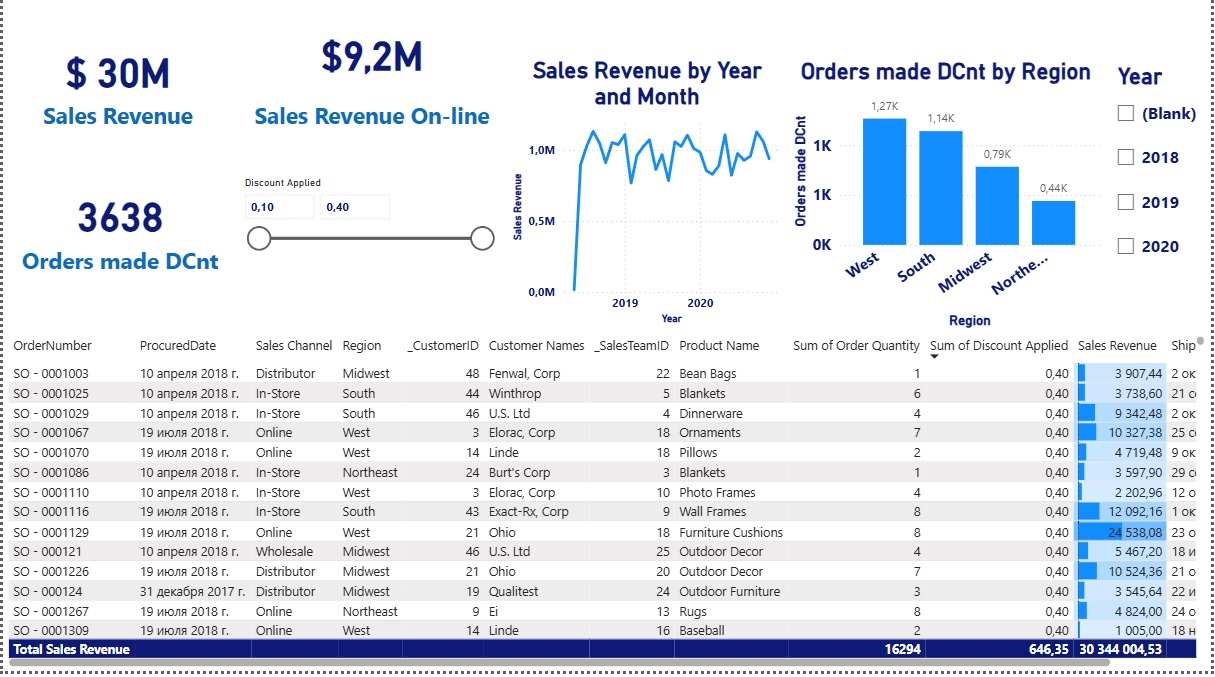

What the dashboard file says about the page in this screenshot:
{"tool":"powerbi","page":{"name":"Sales with 10%+ Discount (Online Sales Highlighted)","canvas":[1280,720],"ordinal":1},"visuals":[{"type":"slicer","fields":{"Values":["Sales Orders Sheet.Discount Applied"]},"box":[248.1,258.3,287,94.3],"z":0},{"type":"card","fields":{"Values":["Measures Table.Sales Revenue"]},"box":[4.1,69.7,244,188.6],"z":1000},{"type":"card","fields":{"Values":["Measures Table.Order Count"]},"box":[0,241.9,248.1,118.9],"z":2000},{"type":"lineChart","fields":{"Y":["Measures Table.Sales Revenue"],"Category":["DimDate.Date.Variation.Date Hierarchy.Year","DimDate.Date.Variation.Date Hierarchy.Month"]},"box":[535.1,67.7,297.3,289.1],"z":3000},{"type":"clusteredColumnChart","fields":{"Category":["Regions Sheet.Region"],"Y":["Measures Table.Orders made DCnt"]},"box":[832.4,69.7,336.2,291.1],"z":4000},{"type":"tableEx","fields":{"Values":["Sales Orders Sheet.OrderNumber","Sales Orders Sheet.ProcuredDate","Sales Orders Sheet.Sales Channel","Regions Sheet.Region","Sales Orders Sheet._CustomerID","Customers Sheet.Customer Names","Sales Orders Sheet._SalesTeamID","Products Sheet.Product Name","Sum(Sales Orders Sheet.Order Quantity)","Sum(Sales Orders Sheet.Discount Applied)","Measures Table.Sales Revenue","Sales Orders Sheet.ShipDate"]},"box":[0,358.8,1279.3,360.8],"z":5000},{"type":"slicer","fields":{"Values":["DimDate.Year"]},"box":[1168.6,69.7,110.7,239.9],"z":6000},{"type":"card","fields":{"Values":["Measures Table.Sales Revenue"]},"box":[248.1,69.7,287,121],"z":7000},{"type":"textbox","box":[248.1,190.7,287,51.3],"z":8000}]}

Visuals, with their boxes in screenshot pixels (x1, y1, x2, y2), scaled from the page's 1280x720 canvas onto the 1215x677 screenshot:
slicer - Sales Orders Sheet.Discount Applied: <region>236, 243, 508, 332</region>
card - Measures Table.Sales Revenue: <region>4, 66, 236, 243</region>
card - Measures Table.Order Count: <region>0, 227, 236, 339</region>
lineChart - Measures Table.Sales Revenue x DimDate.Date.Variation.Date Hierarchy.Year: <region>508, 64, 790, 335</region>
clusteredColumnChart - Regions Sheet.Region x Measures Table.Orders made DCnt: <region>790, 66, 1109, 339</region>
tableEx - Sales Orders Sheet.OrderNumber x Sales Orders Sheet.ProcuredDate: <region>0, 337, 1214, 676</region>
slicer - DimDate.Year: <region>1109, 66, 1214, 291</region>
card - Measures Table.Sales Revenue: <region>236, 66, 508, 179</region>
textbox: <region>236, 179, 508, 228</region>
